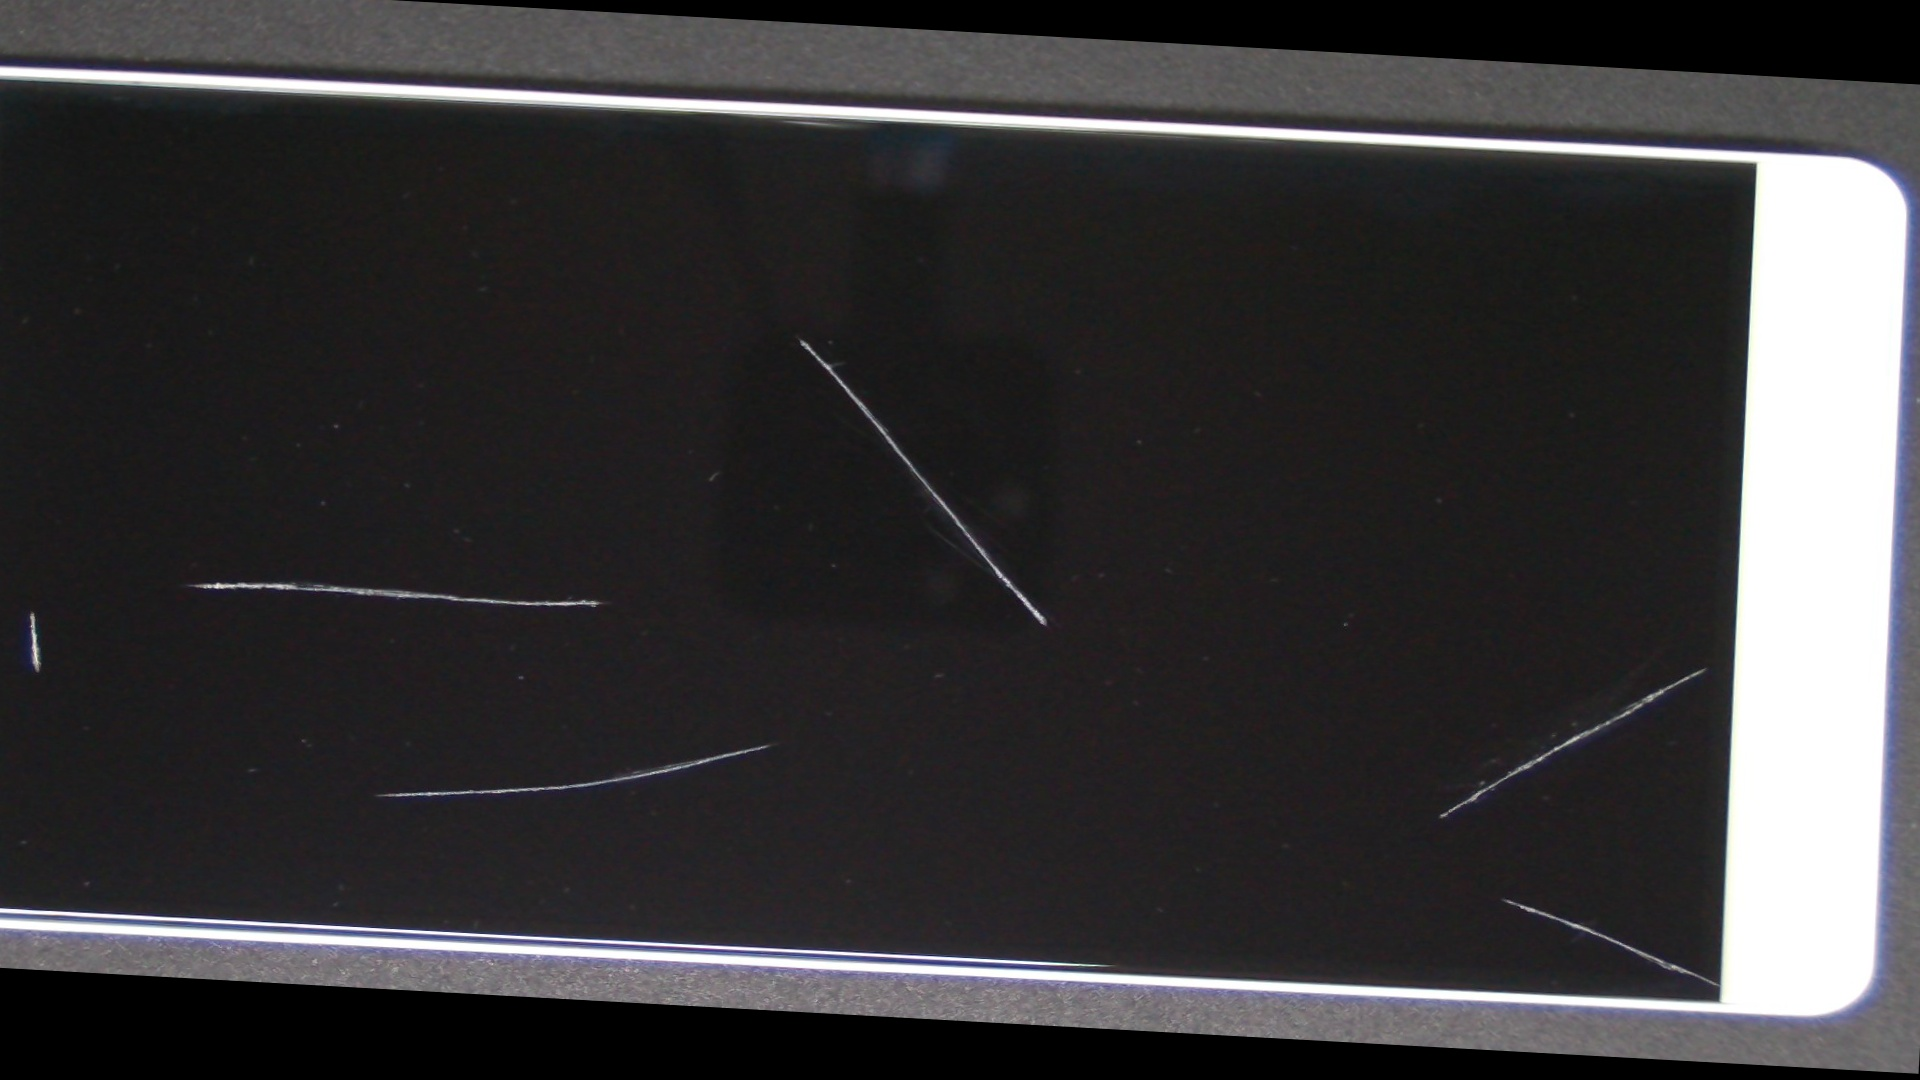oil: (628, 433, 1920, 1073), (727, 316, 1920, 976), (256, 356, 1283, 1036), (289, 152, 1308, 520), (15, 274, 542, 886), (0, 289, 175, 932)
